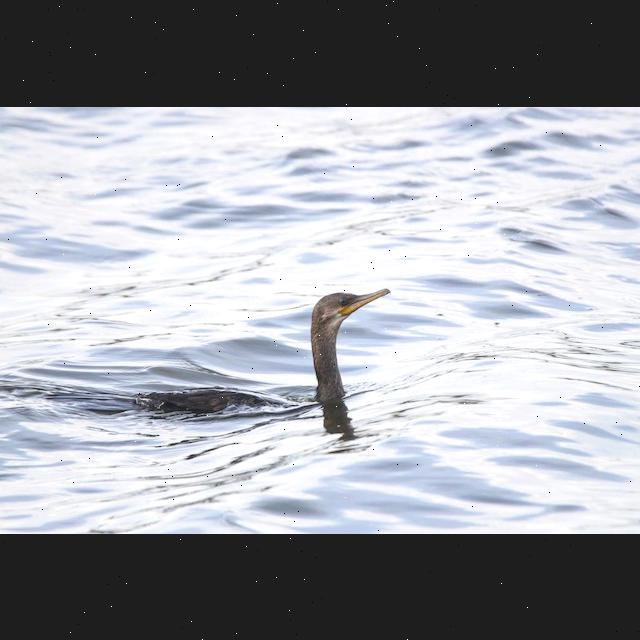cormorant: (289, 277, 399, 405)
